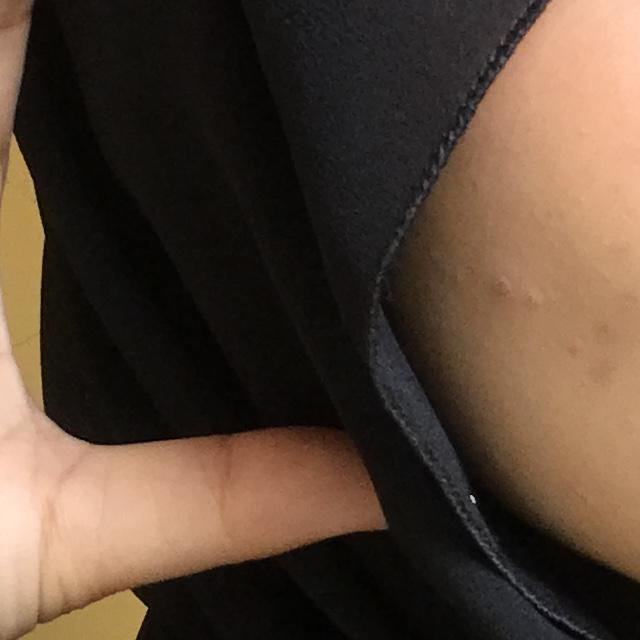mendengar: (0, 0, 405, 640)
